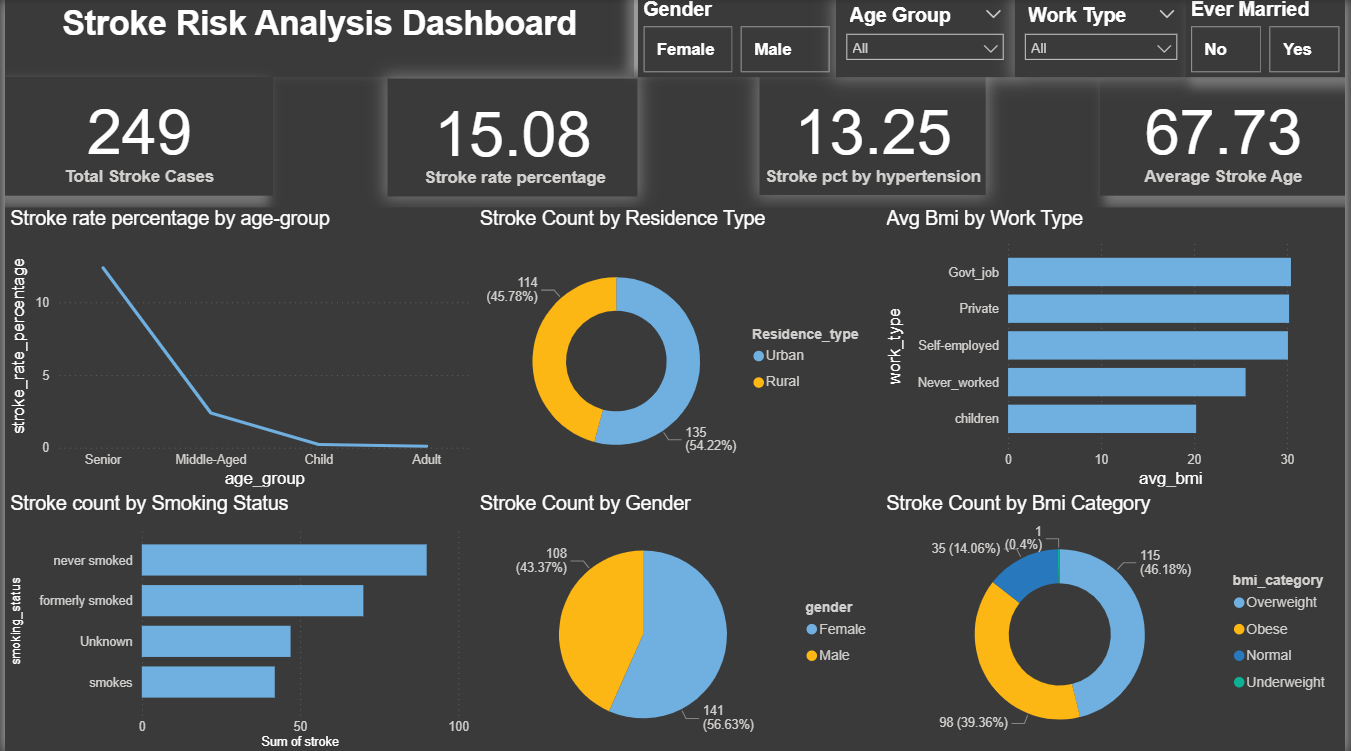

What the dashboard file says about the page in this screenshot:
{"tool":"powerbi","page":{"name":"Dashboard","canvas":[1280,720],"ordinal":0},"visuals":[{"type":"textbox","box":[0,0,600.7,74.5],"z":0},{"type":"card","fields":{"Values":["Sum(Modified Stroke Data.stroke)"]},"box":[0,74.5,255.8,113.3],"z":1},{"type":"card","fields":{"Values":["Sum(stroke_rate_by_agegroup.stroke_rate_percentage)"]},"box":[365.8,76.3,238.6,112.9],"z":2},{"type":"card","fields":{"Values":["Sum(hypertension_stroke_pct.stroke_pct)"]},"box":[720.5,74.8,216.3,112.9],"z":3},{"type":"card","fields":{"Values":["Avg(Modified Stroke Data.age)"]},"box":[1046,74.5,234.8,113.3],"z":4},{"type":"pieChart","title":" Stroke Count by Gender","fields":{"Category":["stroke_by_gender.gender"],"Y":["Sum(stroke_by_gender.stroke_count)"]},"box":[448.6,470.8,388.1,249.7],"z":5},{"type":"lineChart","title":" Stroke rate percentage by age-group","fields":{"Category":["stroke_rate_by_agegroup.age_group"],"Y":["Sum(stroke_rate_by_agegroup.stroke_rate_percentage)"]},"box":[0,198.8,448.6,272],"z":6},{"type":"donutChart","title":"Stroke Count by Residence Type","fields":{"Category":["Modified Stroke Data.Residence_type"],"Y":["Sum(Modified Stroke Data.stroke)"]},"box":[448.6,198.8,388.1,272],"z":7},{"type":"barChart","title":" Avg Bmi by Work Type","fields":{"Category":["avg_bmi_worktype.work_type"],"Y":["Sum(avg_bmi_worktype.avg_bmi)"]},"box":[836.7,198.8,443.8,272],"z":8},{"type":"barChart","title":"Stroke count by Smoking Status","fields":{"Category":["Modified Stroke Data.smoking_status"],"Y":["Sum(Modified Stroke Data.stroke)"]},"box":[0,470.8,448.6,249.7],"z":9},{"type":"donutChart","title":" Stroke Count by Bmi Category","fields":{"Category":["stroke_by_bmi_category.bmi_category"],"Y":["Sum(stroke_by_bmi_category.stroke_count)"]},"box":[836.7,470.8,443.8,249.7],"z":10},{"type":"advancedSlicerVisual","title":"Gender","fields":{"Values":["stroke_by_gender.gender"]},"box":[604.4,0,189.3,74.8],"z":11},{"type":"slicer","title":"Filter by Age Group","fields":{"Values":["stroke_rate_by_agegroup.age_group"]},"box":[793.7,0,170.2,74.8],"z":12},{"type":"slicer","fields":{"Values":["avg_bmi_worktype.work_type"]},"box":[963.9,0,165.4,74.8],"z":13},{"type":"advancedSlicerVisual","title":"Ever Married","fields":{"Values":["Modified Stroke Data.ever_married"]},"box":[1127.7,0,152.7,74.8],"z":14}]}

Visuals, with their boxes in screenshot pixels (x1, y1, x2, y2), scaled from the page's 1280x720 canvas onto the 1351x751 screenshot:
textbox: pyautogui.locateOnScreen(0, 0, 634, 78)
card - Sum(Modified Stroke Data.stroke): pyautogui.locateOnScreen(0, 78, 270, 196)
card - Sum(stroke_rate_by_agegroup.stroke_rate_percentage): pyautogui.locateOnScreen(386, 80, 638, 197)
card - Sum(hypertension_stroke_pct.stroke_pct): pyautogui.locateOnScreen(760, 78, 989, 196)
card - Avg(Modified Stroke Data.age): pyautogui.locateOnScreen(1104, 78, 1350, 196)
" Stroke Count by Gender" pieChart: pyautogui.locateOnScreen(473, 491, 883, 750)
" Stroke rate percentage by age-group" lineChart: pyautogui.locateOnScreen(0, 207, 473, 491)
"Stroke Count by Residence Type" donutChart: pyautogui.locateOnScreen(473, 207, 883, 491)
" Avg Bmi by Work Type" barChart: pyautogui.locateOnScreen(883, 207, 1350, 491)
"Stroke count by Smoking Status" barChart: pyautogui.locateOnScreen(0, 491, 473, 750)
" Stroke Count by Bmi Category" donutChart: pyautogui.locateOnScreen(883, 491, 1350, 750)
"Gender" advancedSlicerVisual: pyautogui.locateOnScreen(638, 0, 838, 78)
"Filter by Age Group" slicer: pyautogui.locateOnScreen(838, 0, 1017, 78)
slicer - avg_bmi_worktype.work_type: pyautogui.locateOnScreen(1017, 0, 1192, 78)
"Ever Married" advancedSlicerVisual: pyautogui.locateOnScreen(1190, 0, 1350, 78)
